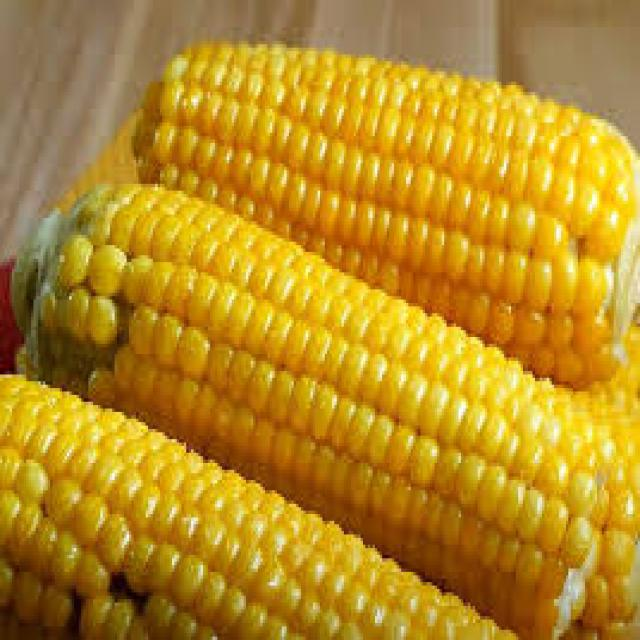corn: (4, 170, 618, 635), (134, 31, 640, 383), (0, 368, 518, 636)
